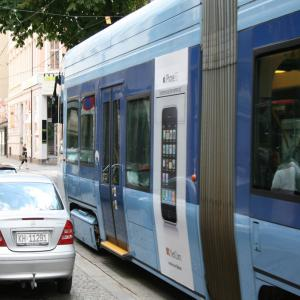Vehicle-registration-plate: (16, 232, 50, 247)
